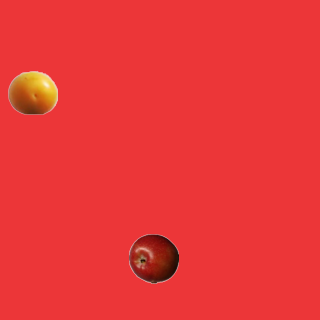Apple Braeburn: (128, 233, 178, 283)
Cherry Wax Yellow: (7, 67, 57, 117)
